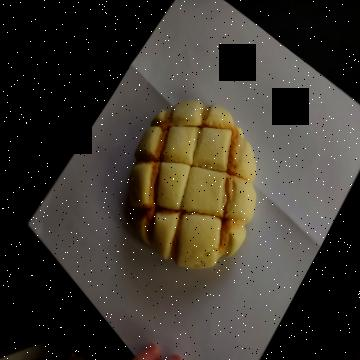melon_bread: (131, 100, 257, 273)
